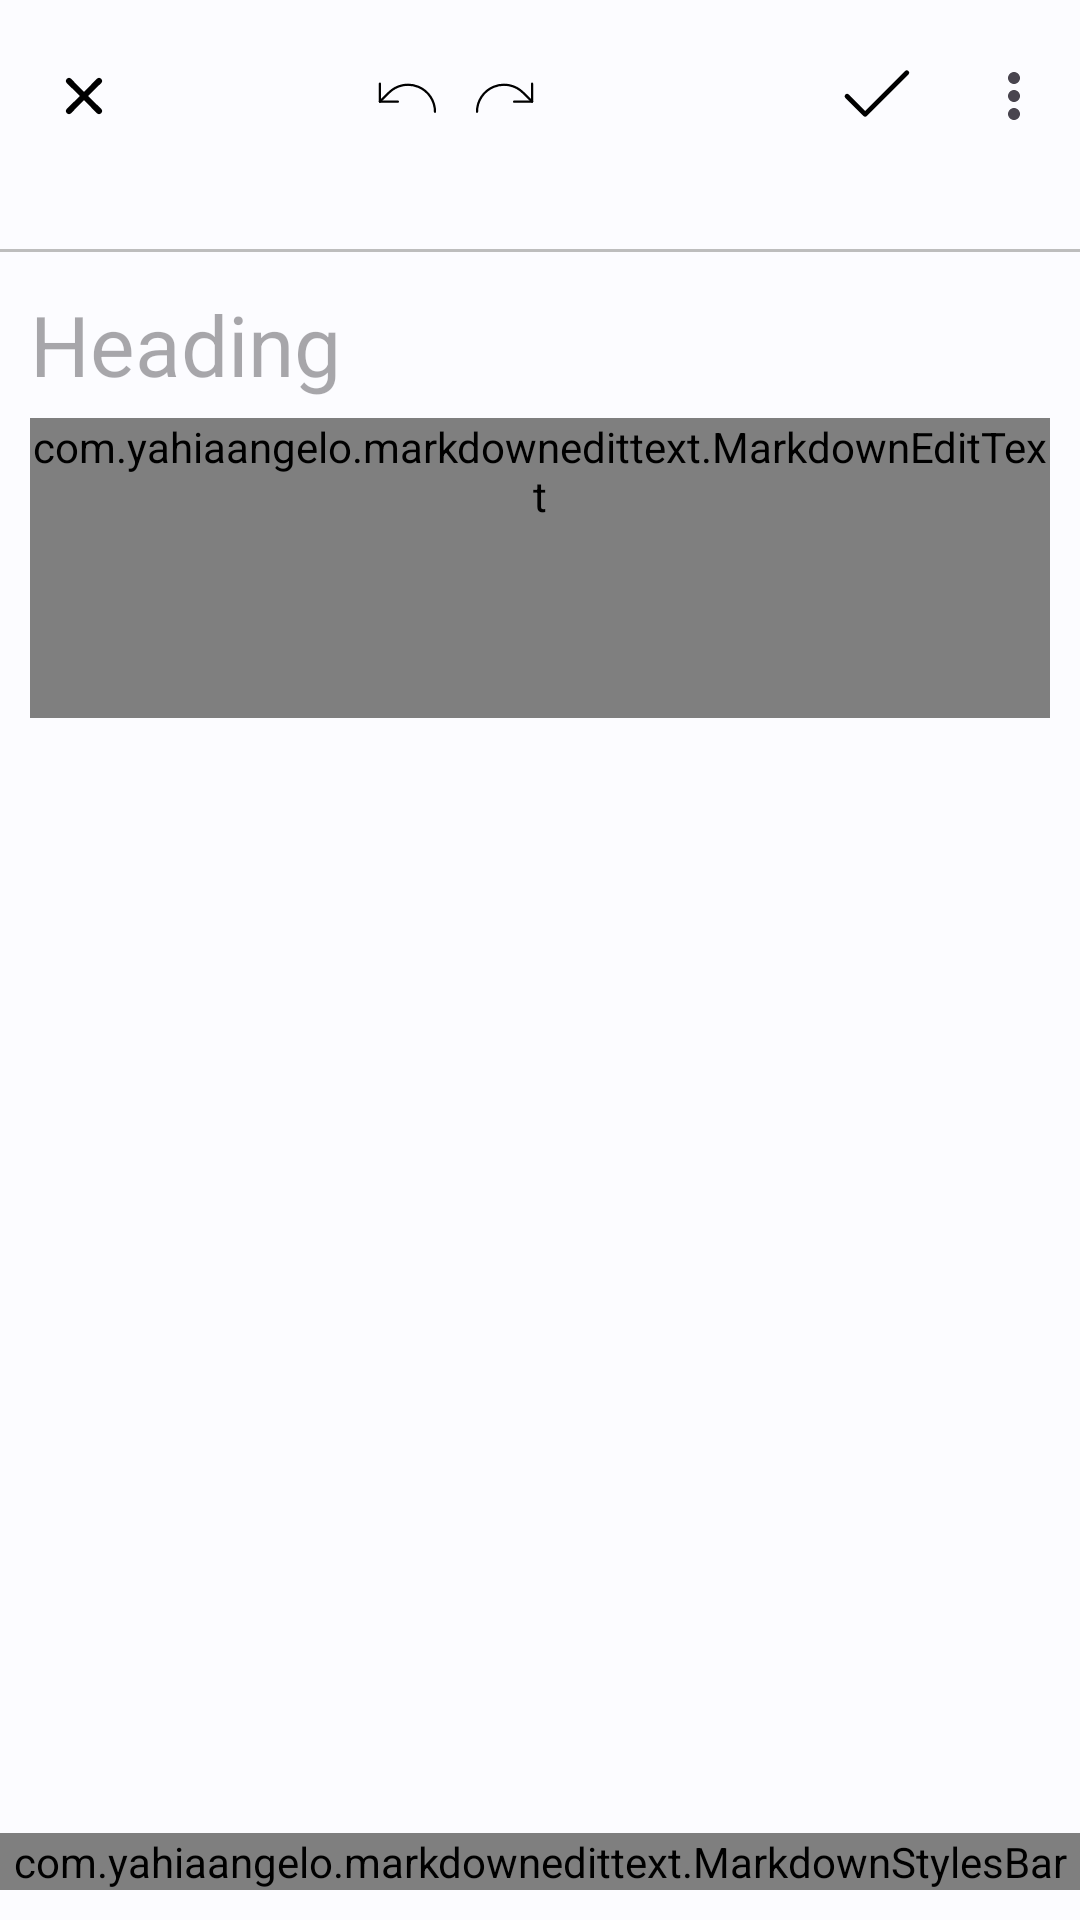

Screen size 1080×1920. Icon name, then its box in pixels as (x1, y1, x2, y2):
arrow arc left: (378, 82, 436, 113)
arrow arc right: (476, 82, 534, 113)
cancel: (66, 78, 102, 114)
